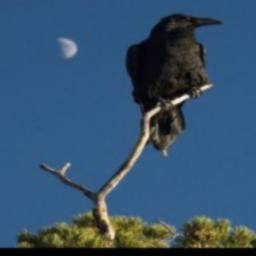Crow: (124, 13, 226, 159)
